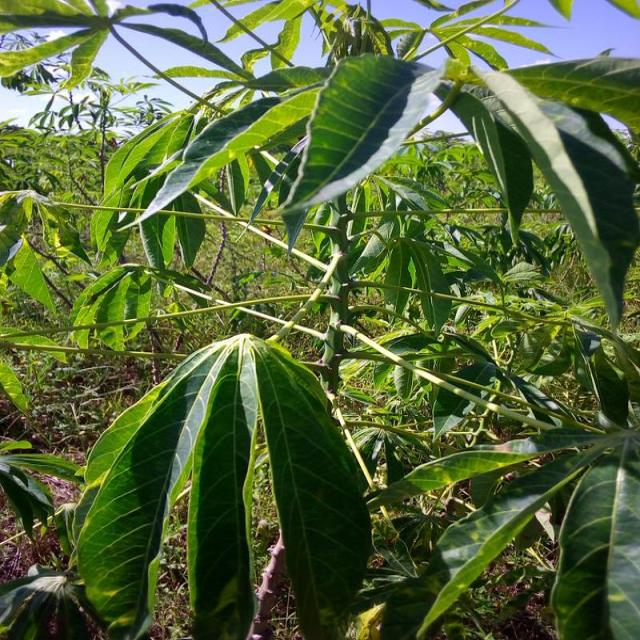cassava leaf: (72, 332, 373, 638)
